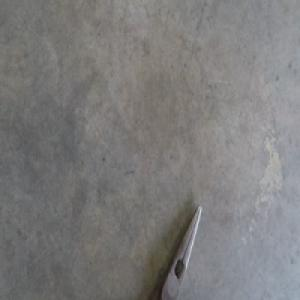Pliers: (155, 204, 201, 298)
